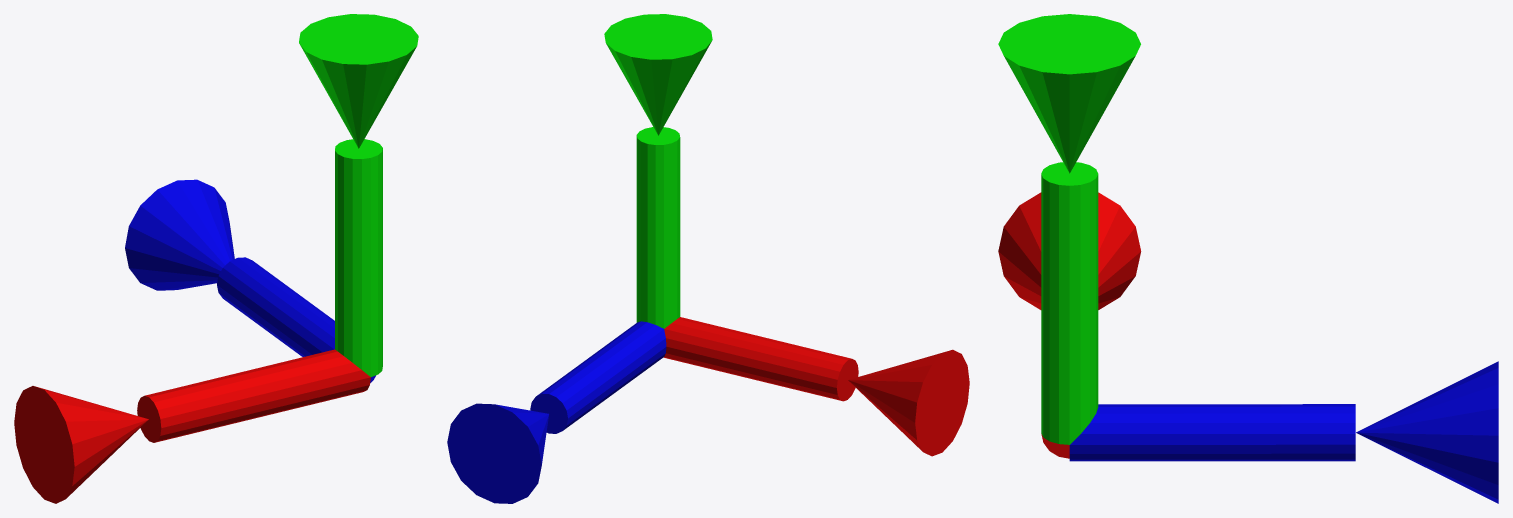
The model's file is coord_system.dae.
The picture shows the model from 3 angles, left to right: view 1: azimuth 30°, elevation 25°; view 2: azimuth 150°, elevation 25°; view 3: azimuth 270°, elevation 25°; orthographic projection. The views are drawn at different scales.
Visible parts, largest first — view 1: ShapeCylinder_001, ShapeCylinder, ShapeCone_002, ShapeCone_001, ShapeCone, ShapeCylinder_002; view 2: ShapeCylinder, ShapeCylinder_001, ShapeCone_002, ShapeCone_001, ShapeCone, ShapeCylinder_002; view 3: ShapeCylinder_002, ShapeCylinder, ShapeCone, ShapeCone_002, ShapeCone_001.
Boxes of the visible parts, bbox=[...] form: ShapeCylinder_001: bbox=[137, 349, 370, 442]; ShapeCylinder: bbox=[335, 139, 382, 376]; ShapeCone_002: bbox=[125, 179, 234, 290]; ShapeCone_001: bbox=[14, 386, 148, 503]; ShapeCone: bbox=[299, 14, 418, 148]; ShapeCylinder_002: bbox=[217, 257, 375, 382]; ShapeCylinder: bbox=[636, 127, 680, 328]; ShapeCylinder_001: bbox=[663, 317, 858, 401]; ShapeCone_002: bbox=[447, 403, 548, 503]; ShapeCone_001: bbox=[848, 349, 969, 456]; ShapeCone: bbox=[604, 14, 712, 135]; ShapeCylinder_002: bbox=[530, 321, 666, 433]; ShapeCylinder_002: bbox=[1069, 404, 1355, 461]; ShapeCylinder: bbox=[1041, 162, 1098, 444]; ShapeCone: bbox=[998, 14, 1140, 173]; ShapeCone_002: bbox=[1356, 361, 1498, 503]; ShapeCone_001: bbox=[998, 192, 1141, 309].
Size of the model in its own units: 0.07 by 0.07 by 0.07.
